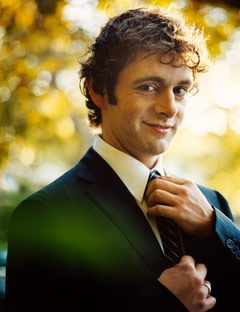bad: (116, 56, 205, 146)
